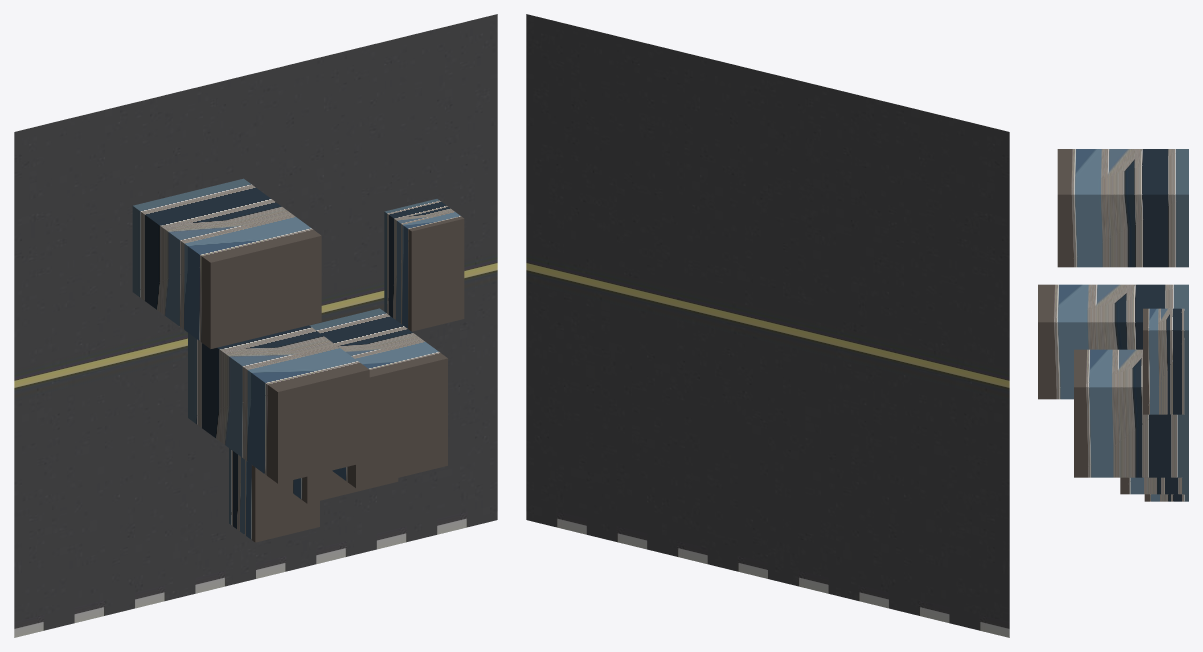
3 views of the same model, side by side, from view 1: azimuth 30°, elevation 25°; view 2: azimuth 150°, elevation 25°; view 3: azimuth 270°, elevation 25° (orthographic). The views are drawn at different scales.
Bounding box in the file's own units: 119 × 119 × 38.32.
Materials: 2 (2 with a texture image).
